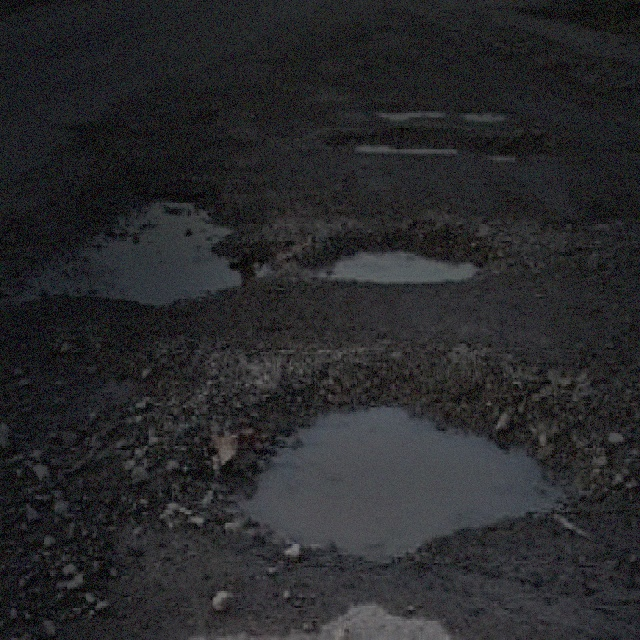pothole: (182, 346, 606, 568), (72, 184, 266, 307), (294, 224, 488, 284), (322, 126, 551, 164), (365, 100, 524, 120)
